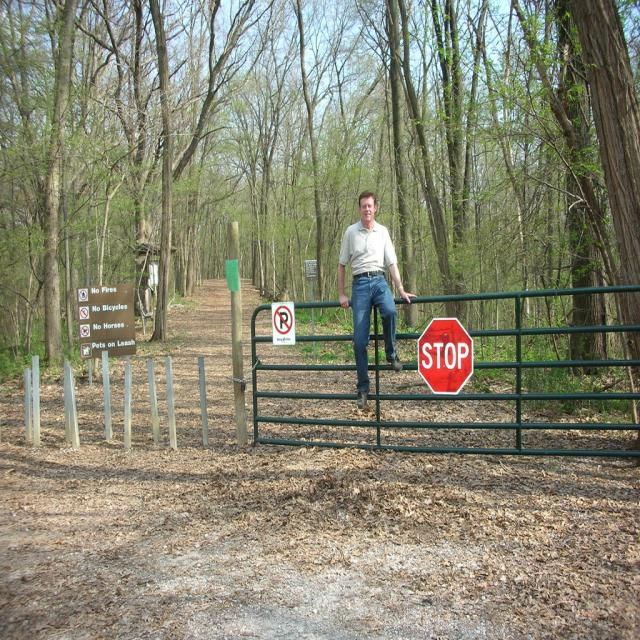Stop-sign: (417, 316, 474, 396)
